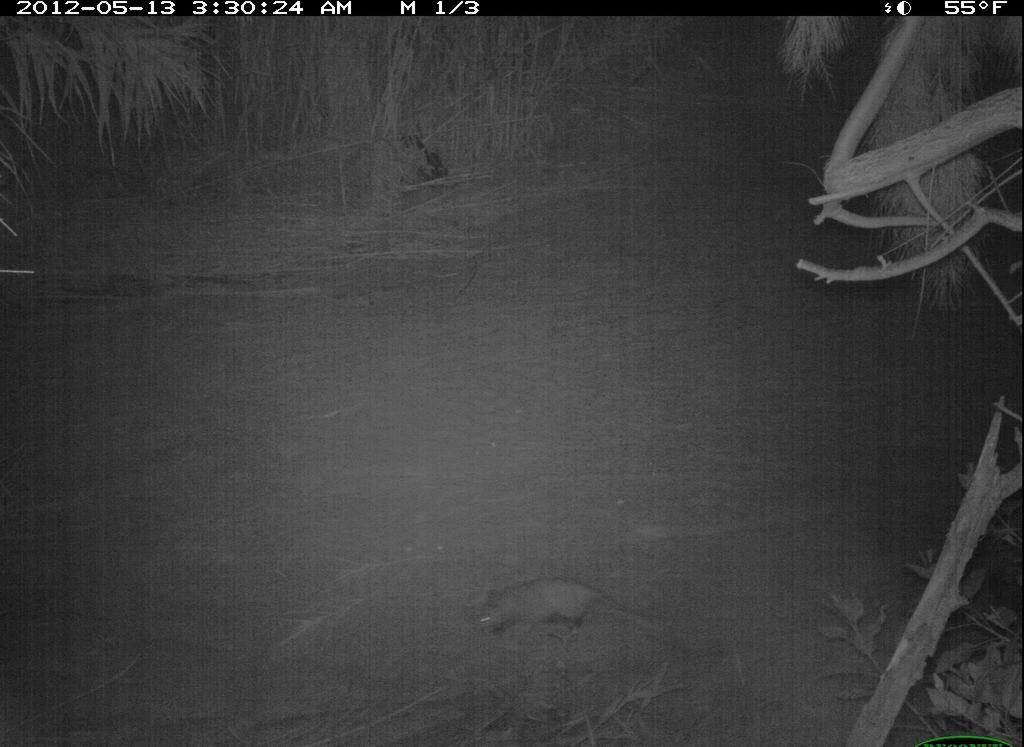opossum: (459, 574, 664, 656)
